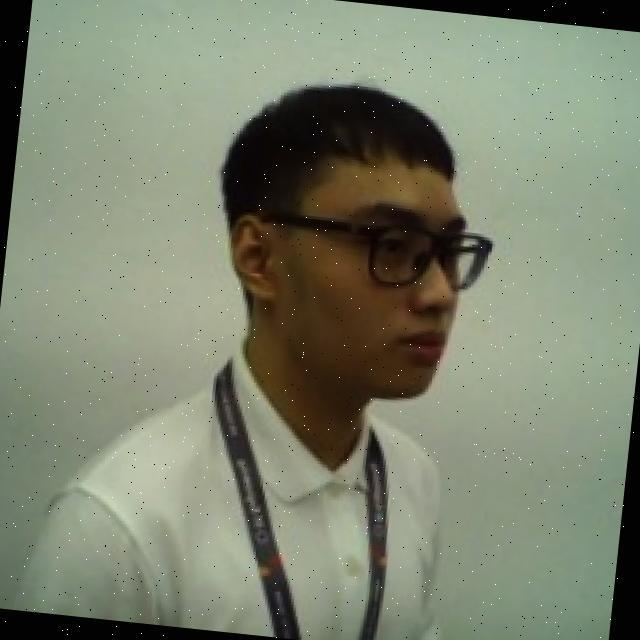no_gloves: (213, 61, 480, 232)
no_hairnet: (212, 216, 472, 419)
